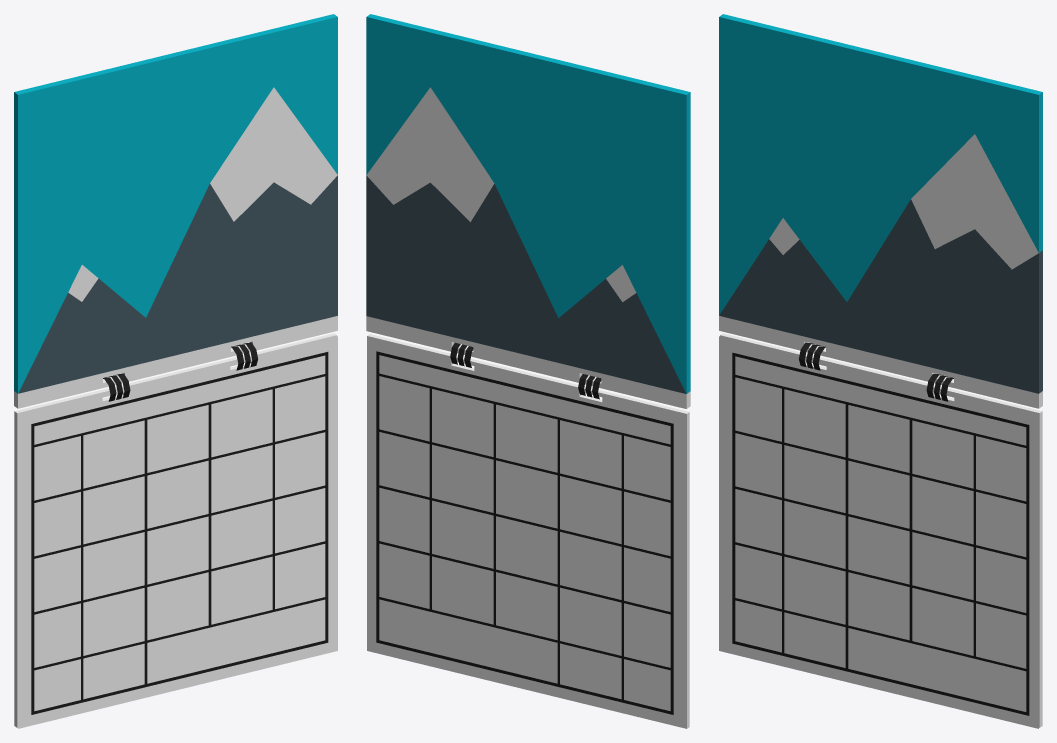
File: calendar.glb
3 renders of one model, left to right at view 1: azimuth 30°, elevation 25°; view 2: azimuth 150°, elevation 25°; view 3: azimuth 330°, elevation 25°, orthographic.
Parts seen in each view (by area): view 1: calendar; view 2: calendar; view 3: calendar.
Part boxes in pixels (x1,y1,x2,y2): calendar: [14, 14, 337, 728]; calendar: [366, 14, 690, 728]; calendar: [719, 14, 1042, 728].
Size of the model in its own units: 0.1848 by 0.35 by 0.0128.
